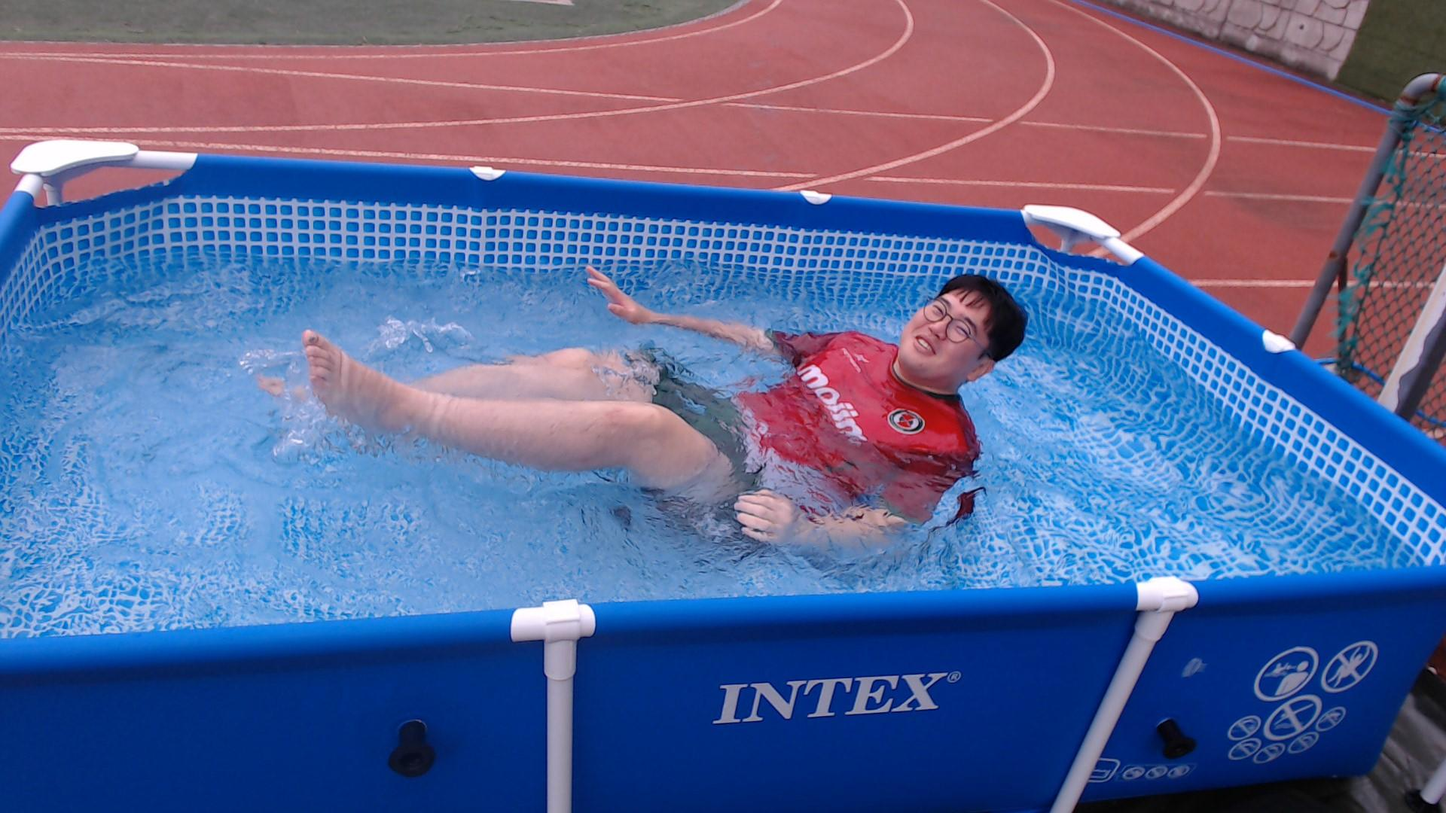Swimming: (204, 176, 1137, 578)
